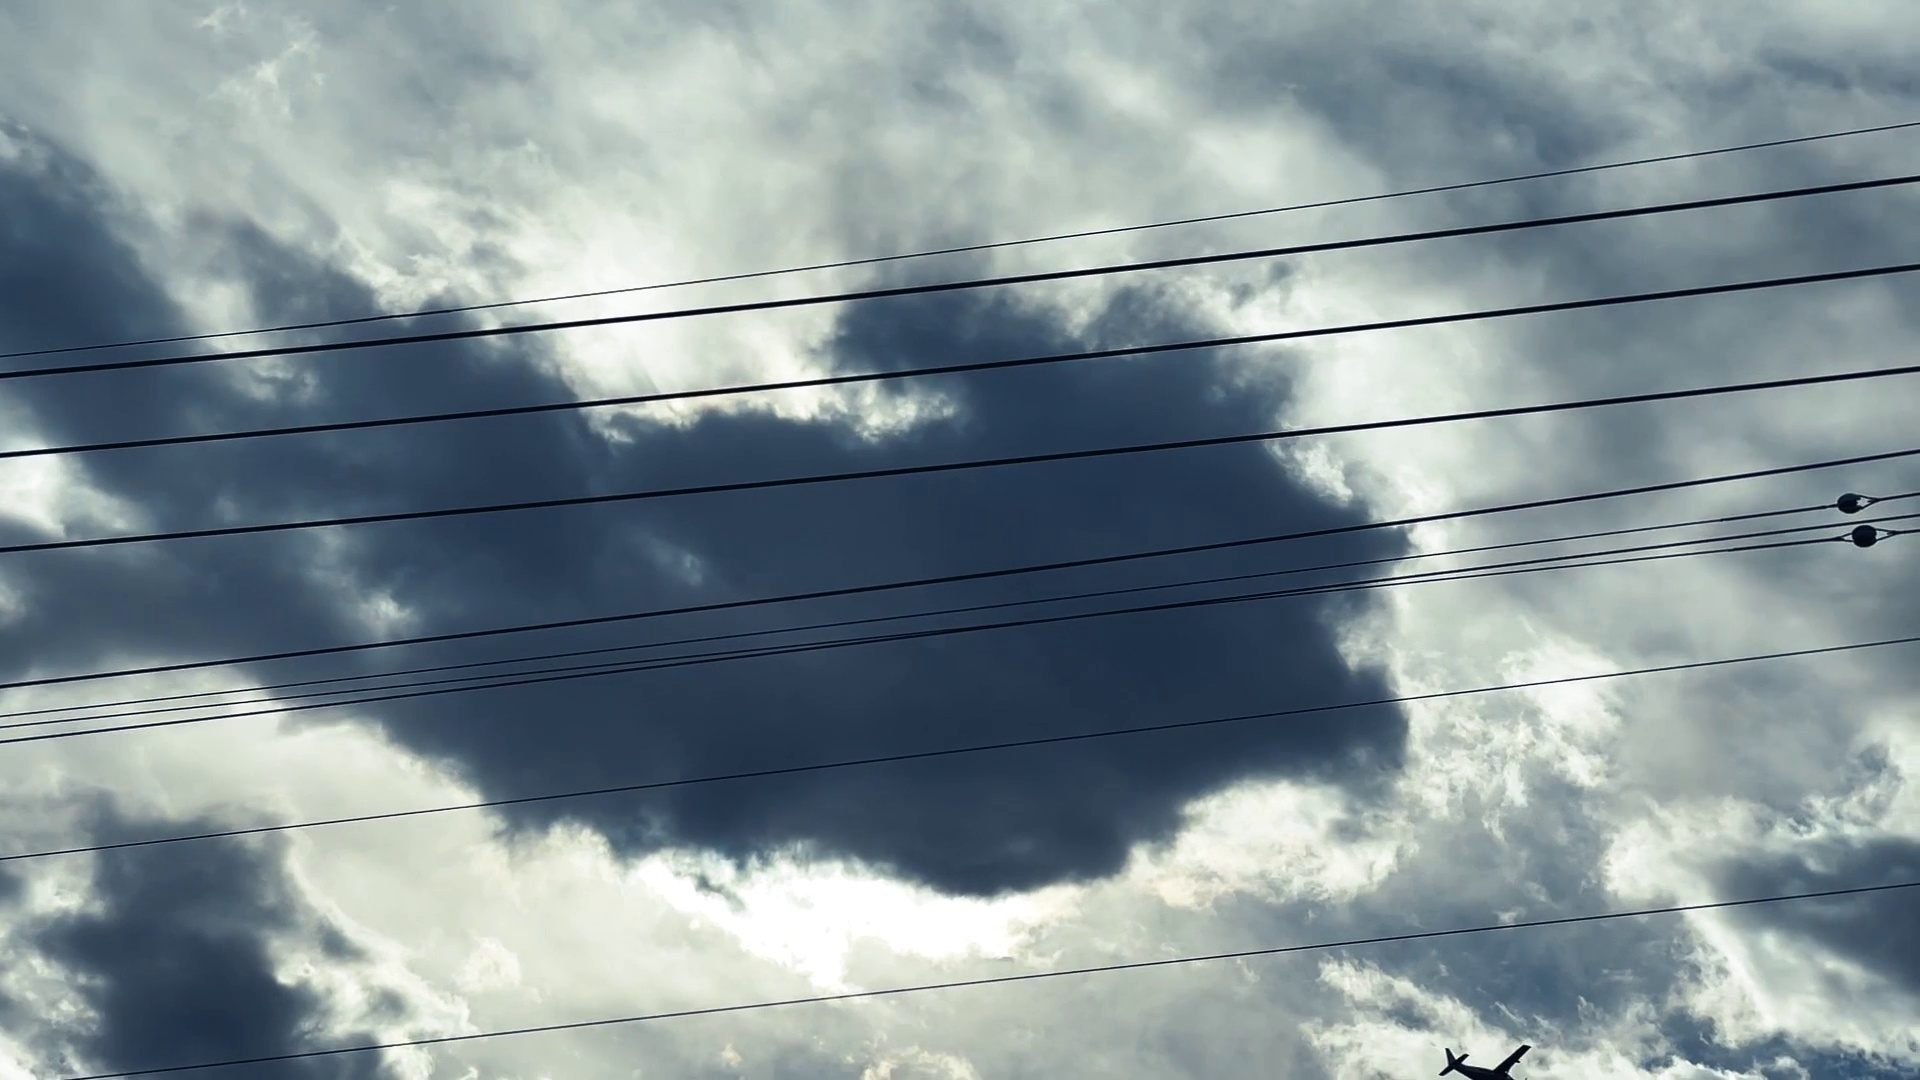plane: (1437, 1044, 1534, 1079)
